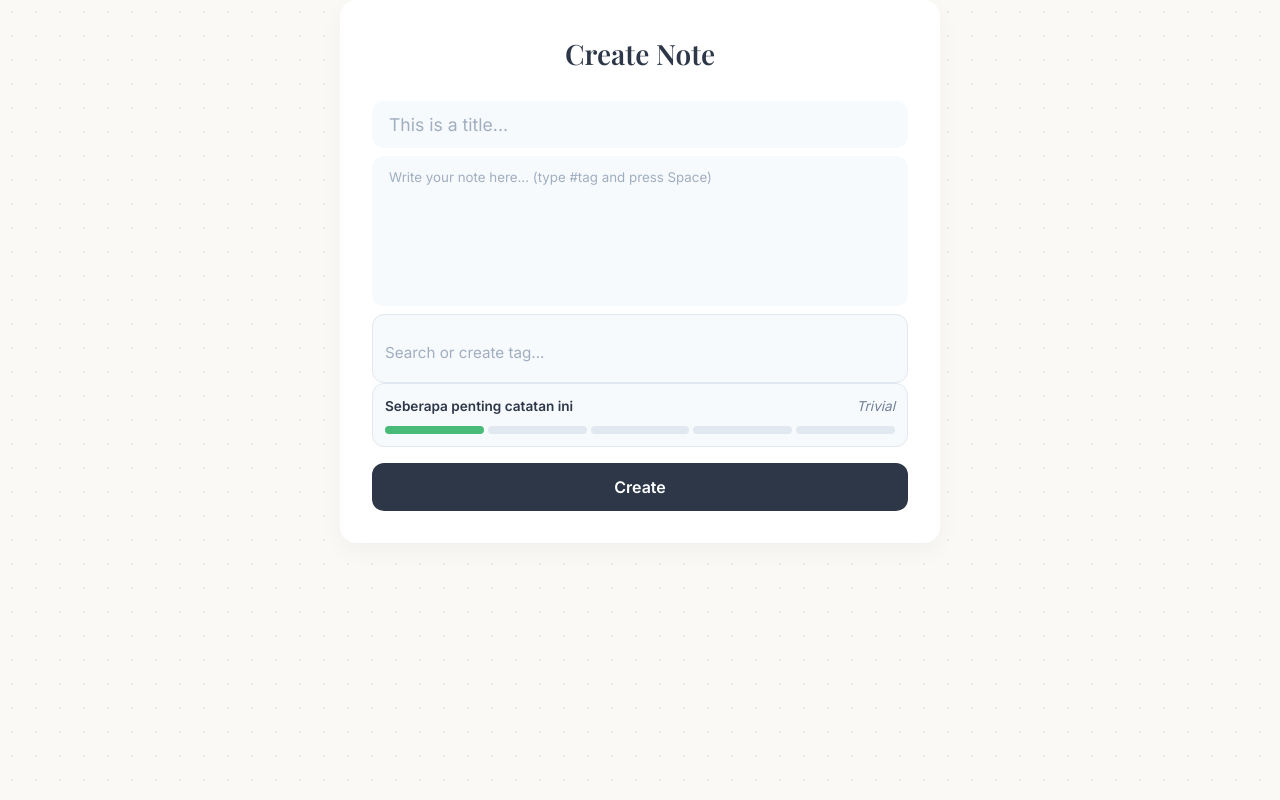
Test case: NoteInput Component › processes inline tags correctly when Space is pressed
The image size is (1280, 800).
# Type a hashtag and press space
Type "Learning #react " into the text box with placeholder "Write your note here... (type #tag and press Space)". click: (640, 231)
box: [372,156,908,306]
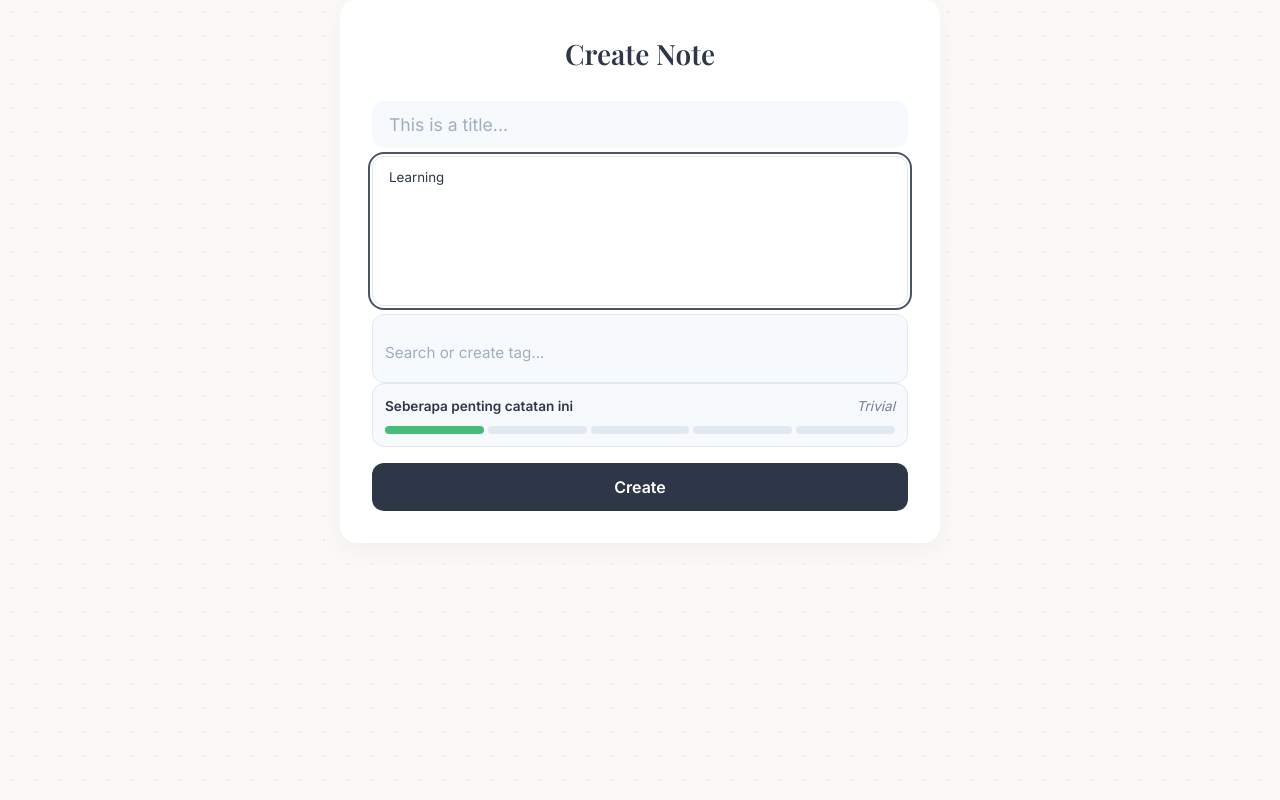
Expected: the text box with placeholder "Write your note here... (type #tag and press Space)" holds "Learning ", [372,156,908,306]
